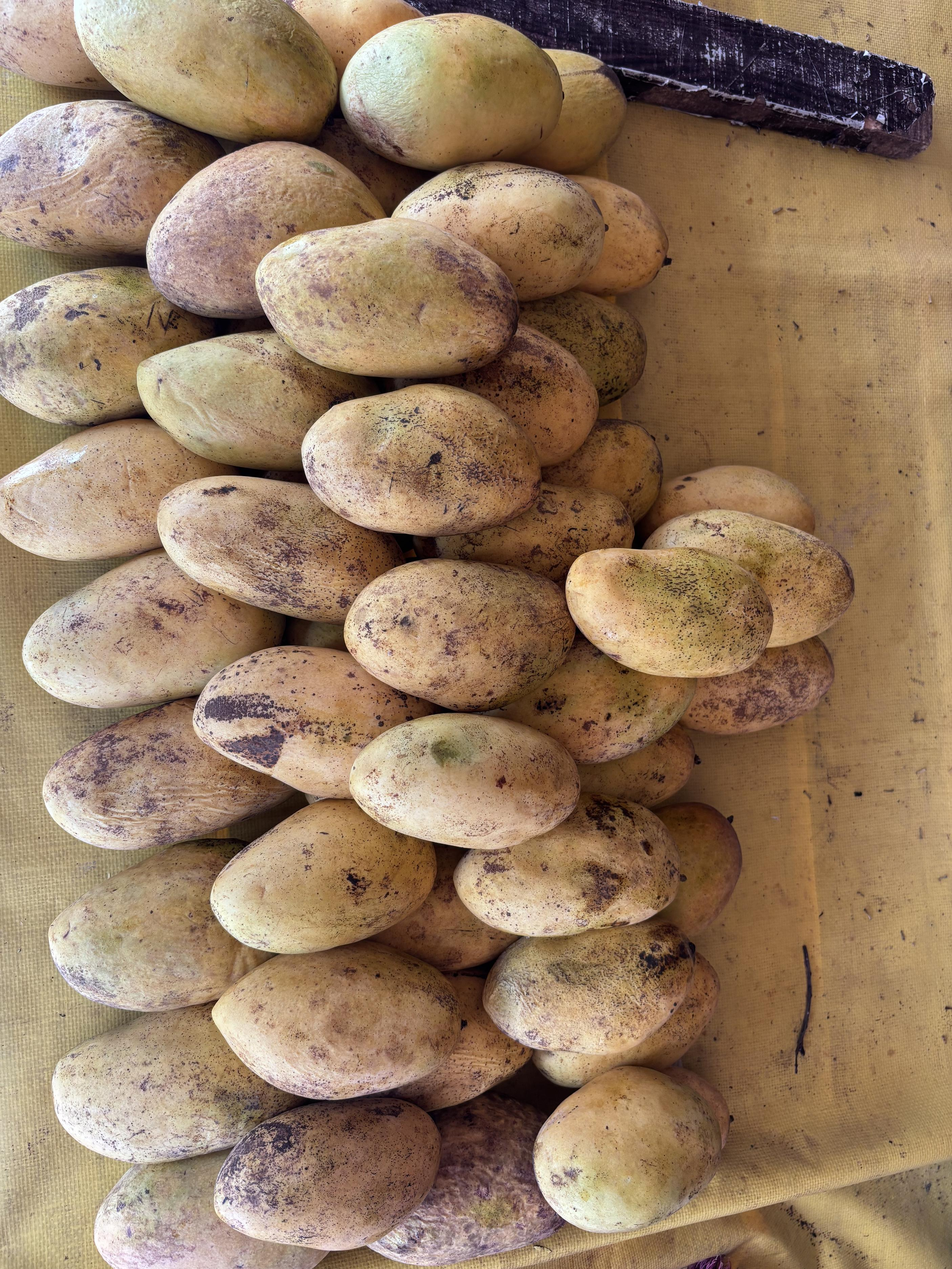mango: (256, 219, 518, 378), (213, 942, 461, 1099), (302, 384, 540, 536), (345, 559, 574, 712), (341, 15, 562, 171), (215, 1097, 440, 1250), (350, 713, 579, 851), (535, 1066, 721, 1232), (566, 547, 772, 678)
occluded: (147, 142, 385, 318), (23, 550, 284, 708), (52, 1004, 301, 1162), (43, 698, 294, 849), (49, 839, 269, 1011), (75, 0, 337, 142), (194, 646, 435, 797), (157, 475, 401, 622), (211, 800, 436, 953), (0, 100, 221, 255), (0, 267, 213, 425), (370, 1094, 563, 1266), (0, 420, 234, 560), (138, 332, 375, 470), (455, 794, 680, 936), (394, 160, 605, 301), (646, 509, 853, 648), (484, 918, 694, 1054), (94, 1150, 326, 1269), (497, 634, 696, 763), (534, 954, 719, 1086), (414, 481, 634, 592), (437, 323, 599, 467), (386, 973, 531, 1111), (375, 844, 518, 971), (682, 637, 834, 734), (520, 290, 646, 405), (516, 49, 626, 173), (638, 465, 814, 537), (542, 419, 662, 522), (657, 803, 741, 942), (575, 176, 667, 296), (286, 0, 422, 78), (578, 724, 699, 808), (0, 0, 111, 91)
